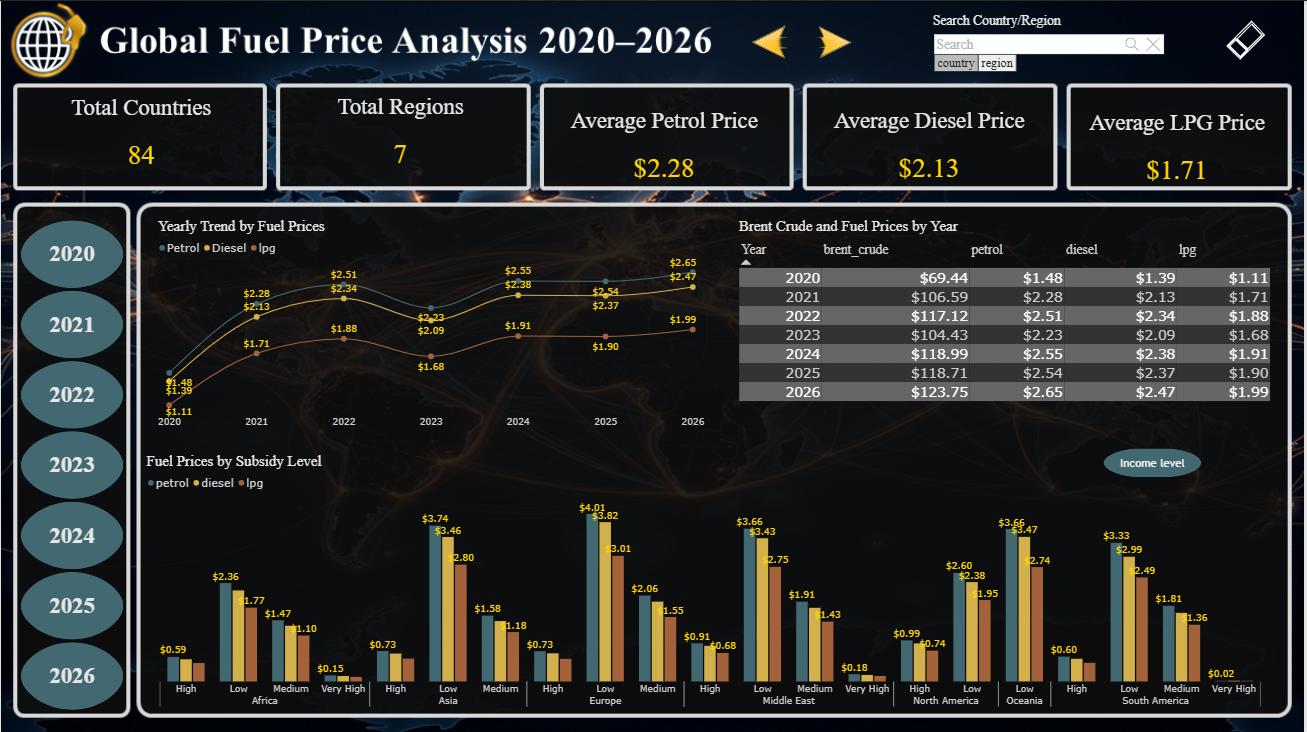

The dashboard page shown, as its layout file describes it:
{"tool":"powerbi","page":{"name":"Report","canvas":[3840,2160],"ordinal":0},"visuals":[{"type":"lineChart","title":"Yearly Trend by Fuel Prices","fields":{"Category":["global_fuel_prices_2020_2026.date.Variation.Date Hierarchy.Year"],"Y":["Avg(global_fuel_prices_2020_2026.petrol_usd_liter)","Avg(global_fuel_prices_2020_2026.diesel_usd_liter)","Avg(global_fuel_prices_2020_2026.lpg_usd_liter)"]},"box":[445.4,622.1,1641.7,655.2],"z":0},{"type":"cardVisual","title":"Total Countries","fields":{"Data":["Count(global_fuel_prices_2020_2026.country)"]},"box":[57.6,275.8,708.1,263.5],"z":1000},{"type":"cardVisual","title":"Total Regions","fields":{"Data":["Count(global_fuel_prices_2020_2026.region)"]},"box":[811,271.7,732.8,263.5],"z":2000},{"type":"cardVisual","title":"Average Petrol Price","fields":{"Data":["Avg(global_fuel_prices_2020_2026.petrol_usd_liter)"]},"box":[1602,312.1,703.9,267.6],"z":5000},{"type":"cardVisual","title":"Average Diesel Price","fields":{"Data":["Avg(global_fuel_prices_2020_2026.diesel_usd_liter)"]},"box":[2382.3,312.1,703.9,267.6],"z":6000},{"type":"cardVisual","title":"Average LPG Price","fields":{"Data":["Avg(global_fuel_prices_2020_2026.lpg_usd_liter)"]},"box":[3158.6,319,609.3,263.5],"z":8000},{"type":"clusteredColumnChart","title":"Income level by Fuel Price ","fields":{"Category":["global_fuel_prices_2020_2026.income_level","global_fuel_prices_2020_2026.region"],"Y":["Avg(global_fuel_prices_2020_2026.petrol_usd_liter)","Avg(global_fuel_prices_2020_2026.diesel_usd_liter)","Avg(global_fuel_prices_2020_2026.lpg_usd_liter)"]},"box":[417.8,1293.3,3337.6,800.8],"z":9000},{"type":"tableEx","title":"Brent Crude and Fuel Prices by Year","fields":{"Values":["global_fuel_prices_2020_2026.date.Variation.Date Hierarchy.Year","Avg(global_fuel_prices_2020_2026.brent_crude_usd)","Avg(global_fuel_prices_2020_2026.petrol_usd_liter)","Avg(global_fuel_prices_2020_2026.diesel_usd_liter)","Avg(global_fuel_prices_2020_2026.lpg_usd_liter)"]},"box":[2157.1,622.1,1597.6,592.6],"z":11000},{"type":"advancedSlicerVisual","fields":{"Values":["global_fuel_prices_2020_2026.Year"]},"box":[58.9,611,301.8,1479.8],"z":12000},{"type":"textSearchSlicerF85E2E78BE4A4D7D9F99ED75B5D71C85","title":"Search Country/Region","fields":{"fields":["global_fuel_prices_2020_2026.country","global_fuel_prices_2020_2026.region"]},"box":[2727.6,18.4,717.8,235.6],"z":13000},{"type":"actionButton","title":"Left Slicer","box":[3559.5,40.5,212.3,152.7],"z":14000},{"type":"image","title":"Left","box":[2087.1,7.4,364.4,231.9],"z":15000},{"type":"image","title":"Right","box":[2278.5,7.4,364.4,231.9],"z":16000},{"type":"actionButton","title":"Subsidy level","box":[3258,1318.1,278.5,79.6],"z":20000}]}

Visuals, with their boxes in screenshot pixels (x1, y1, x2, y2), scaled from the page's 3840x2160 canvas onto the 1307x732 screenshot:
"Yearly Trend by Fuel Prices" lineChart: <region>152, 211, 710, 433</region>
"Total Countries" cardVisual: <region>20, 93, 261, 183</region>
"Total Regions" cardVisual: <region>276, 92, 525, 181</region>
"Average Petrol Price" cardVisual: <region>545, 106, 785, 196</region>
"Average Diesel Price" cardVisual: <region>811, 106, 1050, 196</region>
"Average LPG Price" cardVisual: <region>1075, 108, 1282, 197</region>
"Income level by Fuel Price " clusteredColumnChart: <region>142, 438, 1278, 710</region>
"Brent Crude and Fuel Prices by Year" tableEx: <region>734, 211, 1278, 412</region>
advancedSlicerVisual - global_fuel_prices_2020_2026.Year: <region>20, 207, 123, 709</region>
"Search Country/Region" textSearchSlicerF85E2E78BE4A4D7D9F99ED75B5D71C85: <region>928, 6, 1173, 86</region>
"Left Slicer" actionButton: <region>1212, 14, 1284, 65</region>
"Left" image: <region>710, 3, 834, 81</region>
"Right" image: <region>776, 3, 900, 81</region>
"Subsidy level" actionButton: <region>1109, 447, 1204, 474</region>
